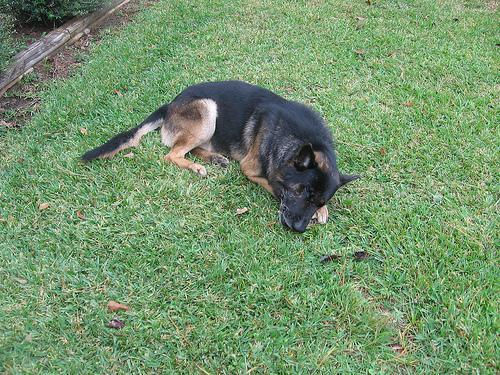German_shepherd: (78, 79, 363, 235)
